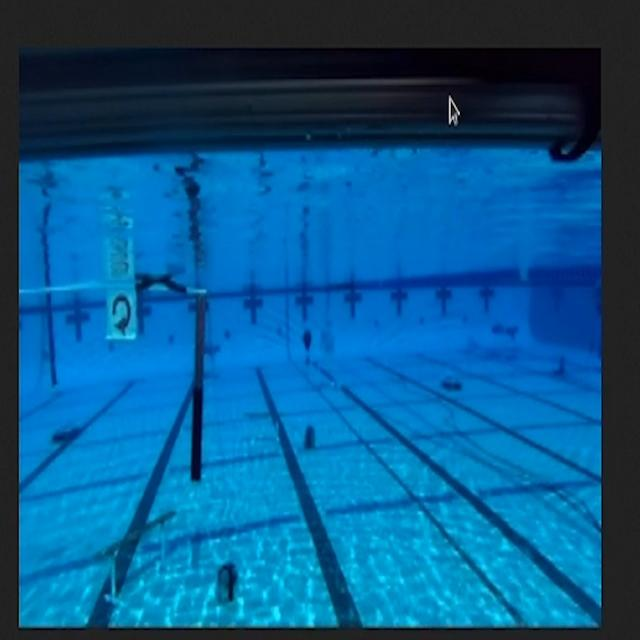Gate: (24, 274, 214, 488)
